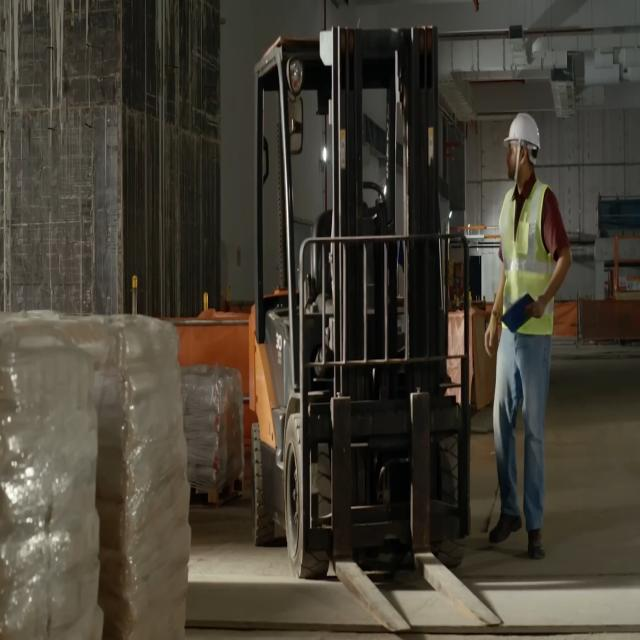Boots: (488, 511, 523, 556), (522, 518, 548, 569)
Helmet: (503, 112, 543, 153)
Vest: (502, 182, 563, 341)
